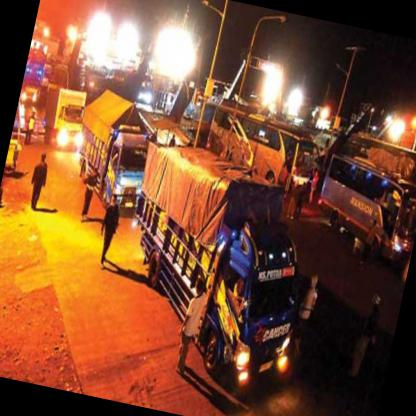truck: (197, 221, 316, 395), (100, 130, 157, 220)
